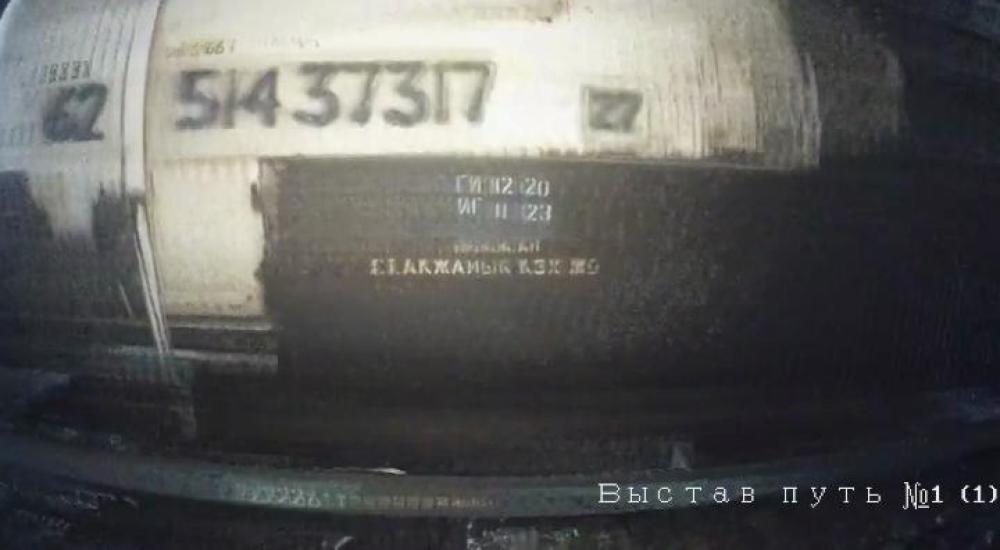Wagon-number: (161, 51, 504, 137)
